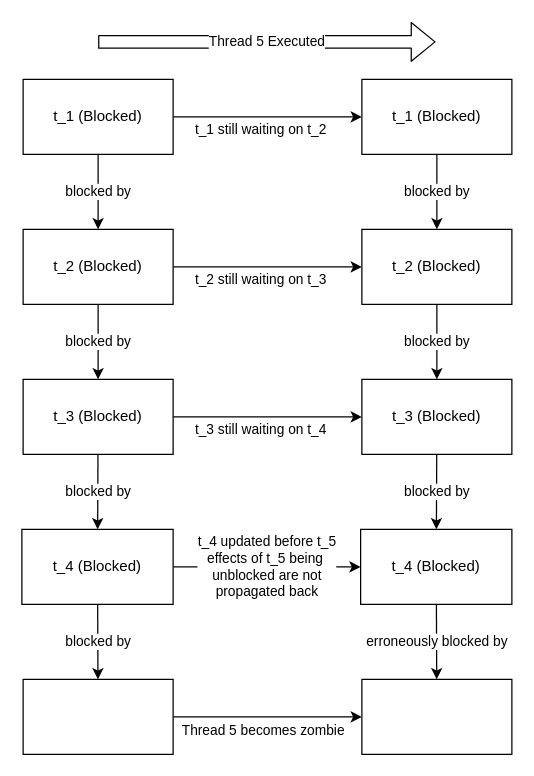
Image size: 534x776. Some labels were removed from this diagram. The centre of each missing label's shape, as x and y in pixels:
t_5 (Ready): the point at 97,716
t_5 (Zombie): the point at 436,716
